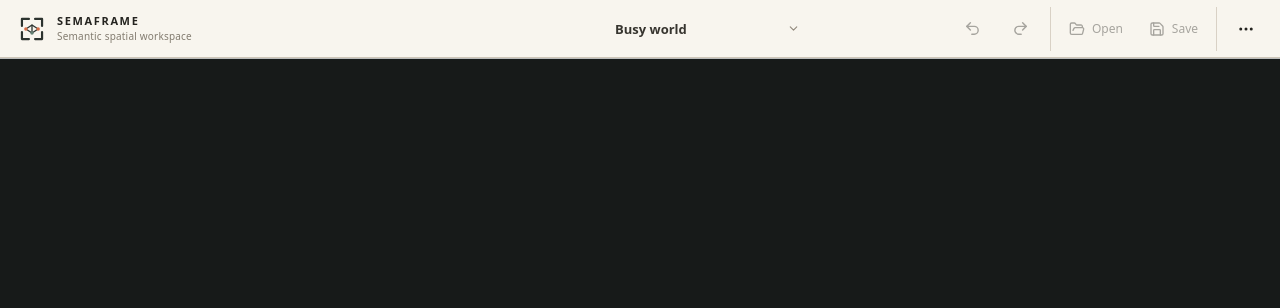
Test case: keyboard and assistive interaction › prevents snapshot file actions while another project operation is active
Check: the button with aria-label "Save project" is disabled, box [1138,6,1209,50]
Click the button named "More project actions".
click(1246, 28)  # box [1224,6,1268,50]
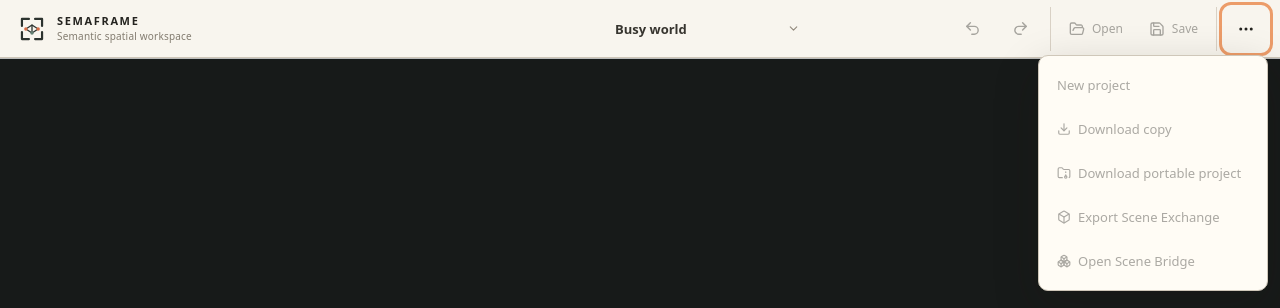
Check: the menu item "Download copy" is disabled, box [1046,106,1260,150]
Check: the menu item "Download portable project" is disabled, box [1046,150,1260,194]
Check: the menu item "Export Scene Exchange" is disabled, box [1046,194,1260,238]
